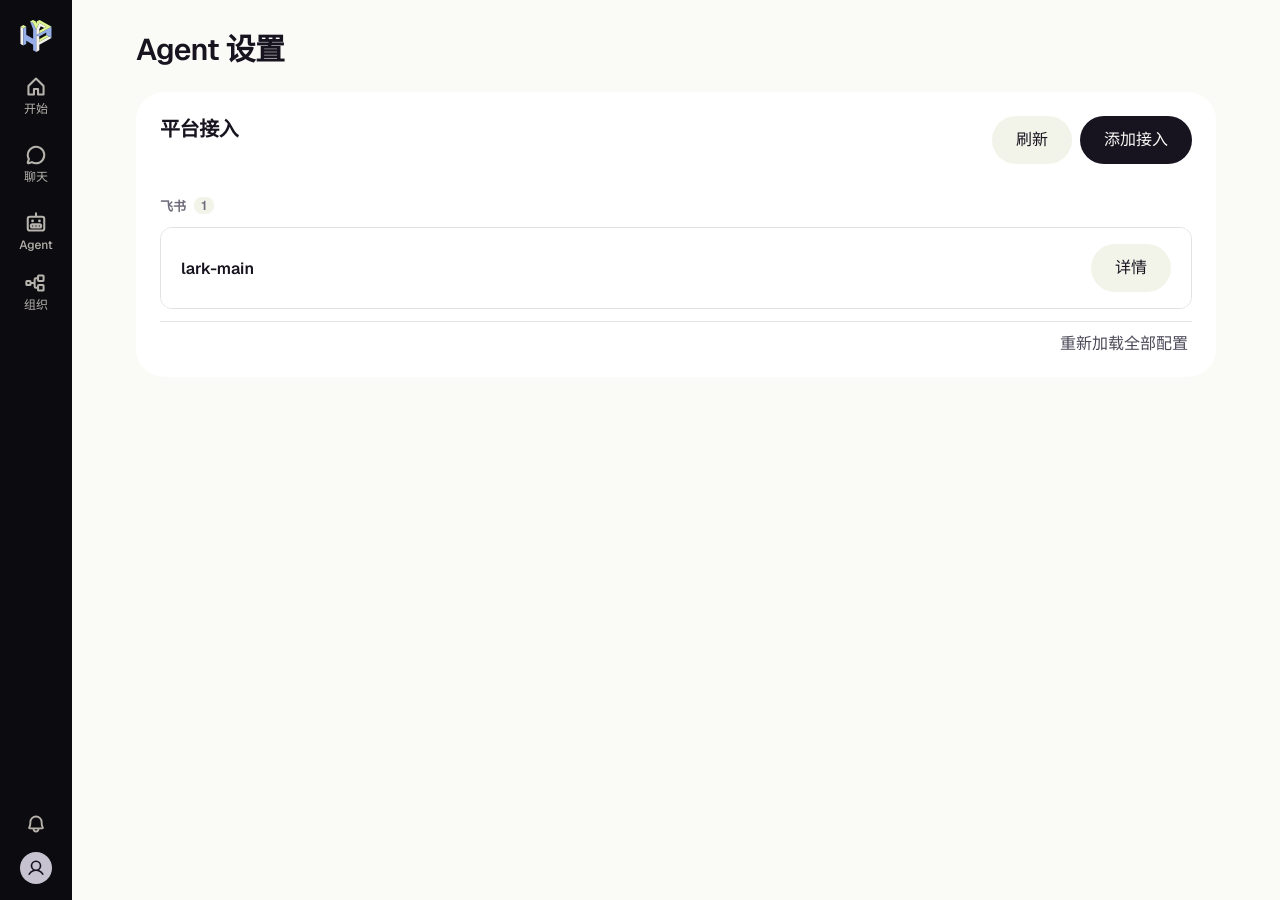
Scenario: Agent 设置 entry follows the page sections › keeps the menu entry with only the platform section
The width and height of the screenshot is (1280, 900).
Expected: the element showing "Agent 设置 平台接入 刷新 添加接入 飞书 1 lark-main 详情 重新加载全部配置" is shown, [136,32,1216,377]
Click the button named "我的账号与 Agent 设置菜单".
click(36, 868)  # box [16,848,56,888]
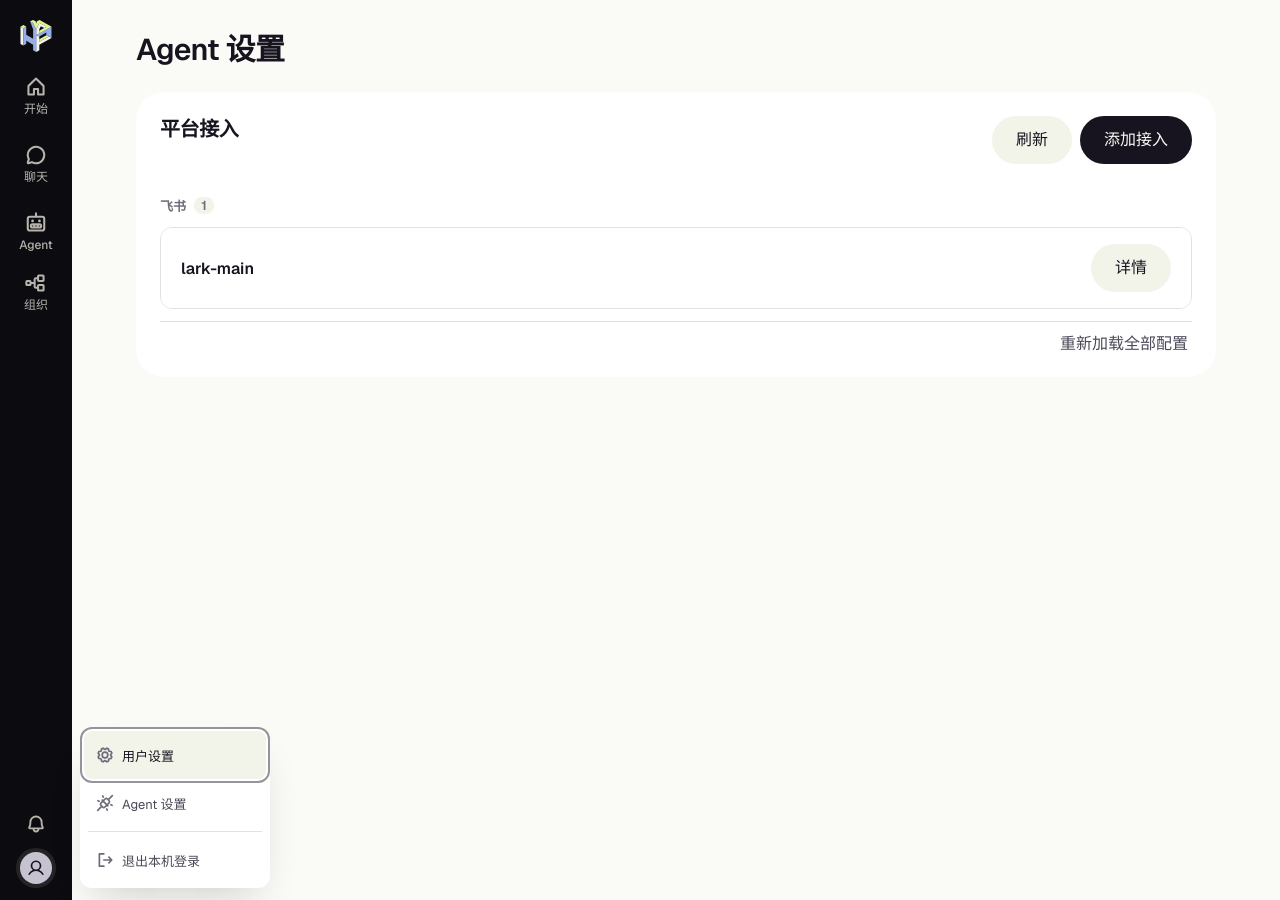
Now the menu item "用户设置" is shown, box [84,731,266,779]
Now the menu item "Agent 设置" is shown, box [84,779,266,827]
